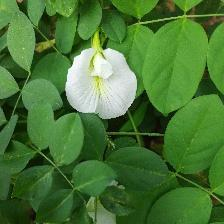shankupushpam: (66, 45, 141, 122)
